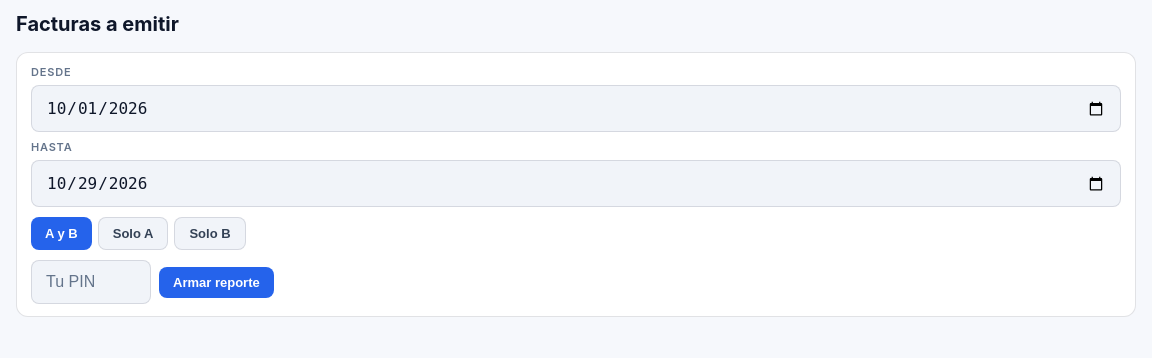
Test: AC-FAB-3 reporte › AC-FAB-3 sin PIN valido no consulta
Click the button "Armar reporte". click: x=216, y=282
box: [159,266,274,298]
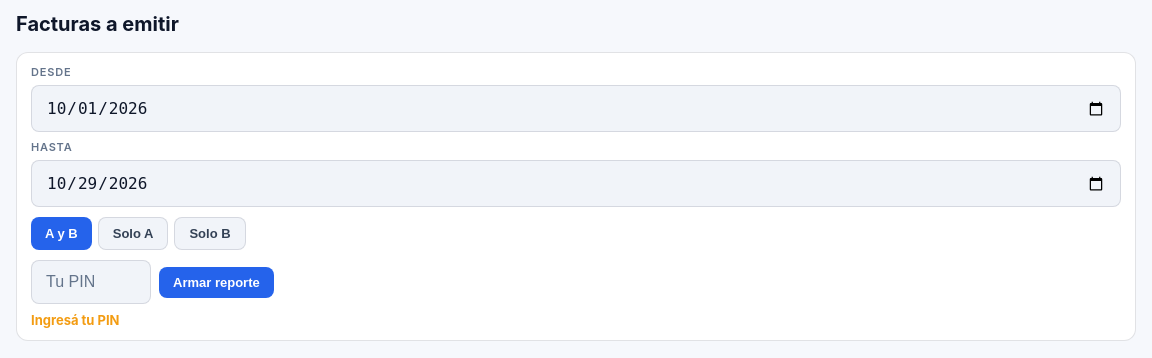
Expected: the text "Ingresá tu PIN" is shown, [31,312,120,328]
